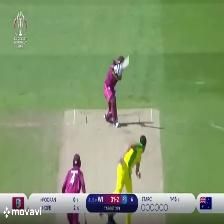batsman: (101, 51, 135, 131)
